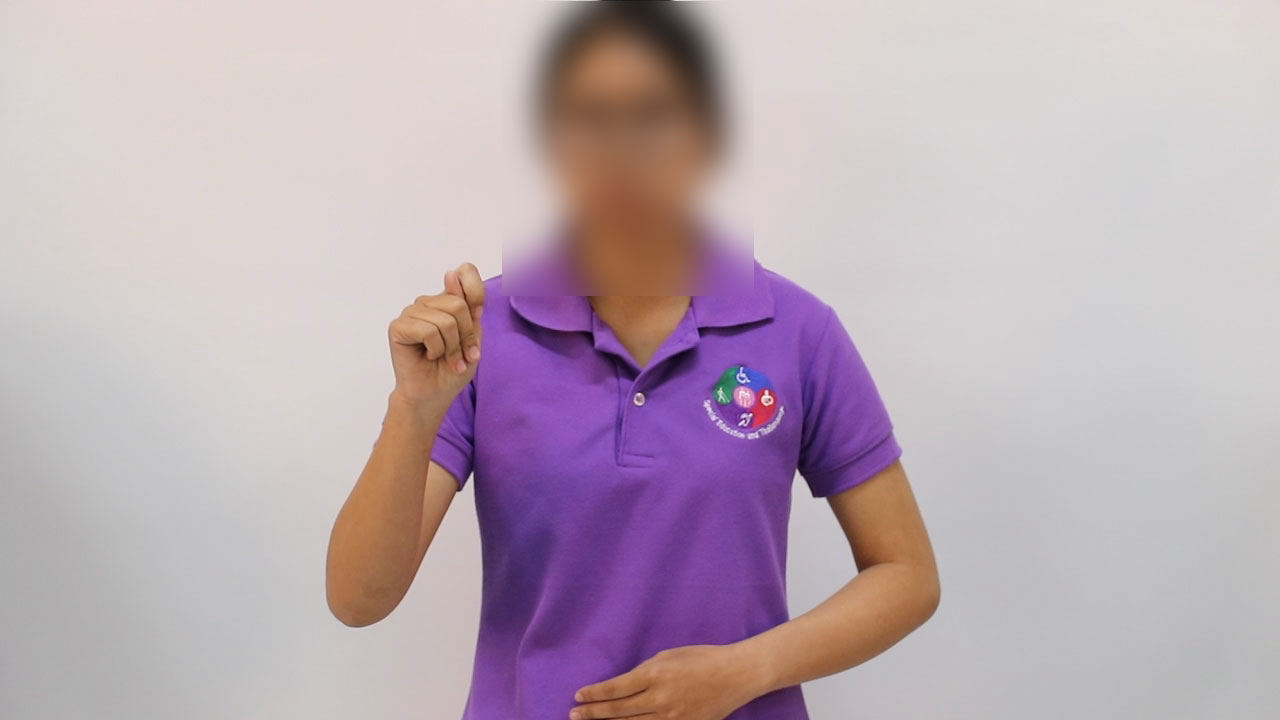tor: (363, 247, 523, 429)
